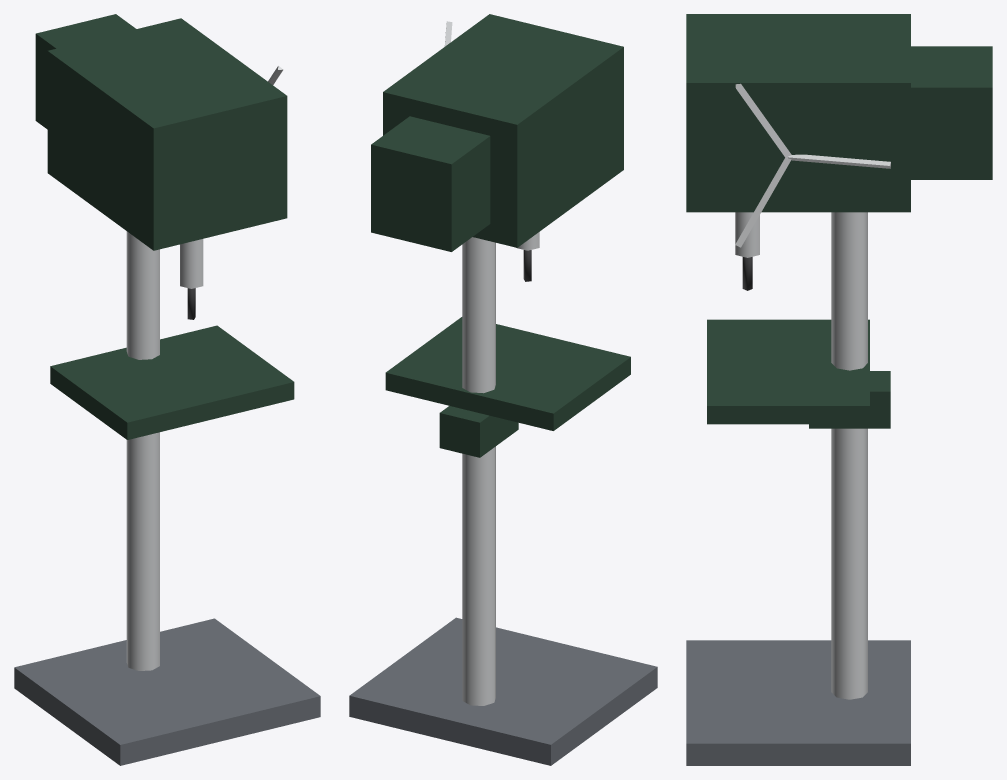
Rendered from drill_press.glb.
3 renders of one model, left to right at view 1: azimuth 30°, elevation 25°; view 2: azimuth 150°, elevation 25°; view 3: azimuth 270°, elevation 25°, orthographic. The views are drawn at different scales.
Visible parts, largest first — view 1: drill_press; view 2: drill_press; view 3: drill_press.
Part boxes in pixels (x1,y1,x2,y2): drill_press: (14, 14, 320, 765); drill_press: (349, 14, 657, 765); drill_press: (686, 14, 992, 765).
Size of the model in its own units: 0.6 by 1.82 by 0.75.
1 material, 1 textured.
